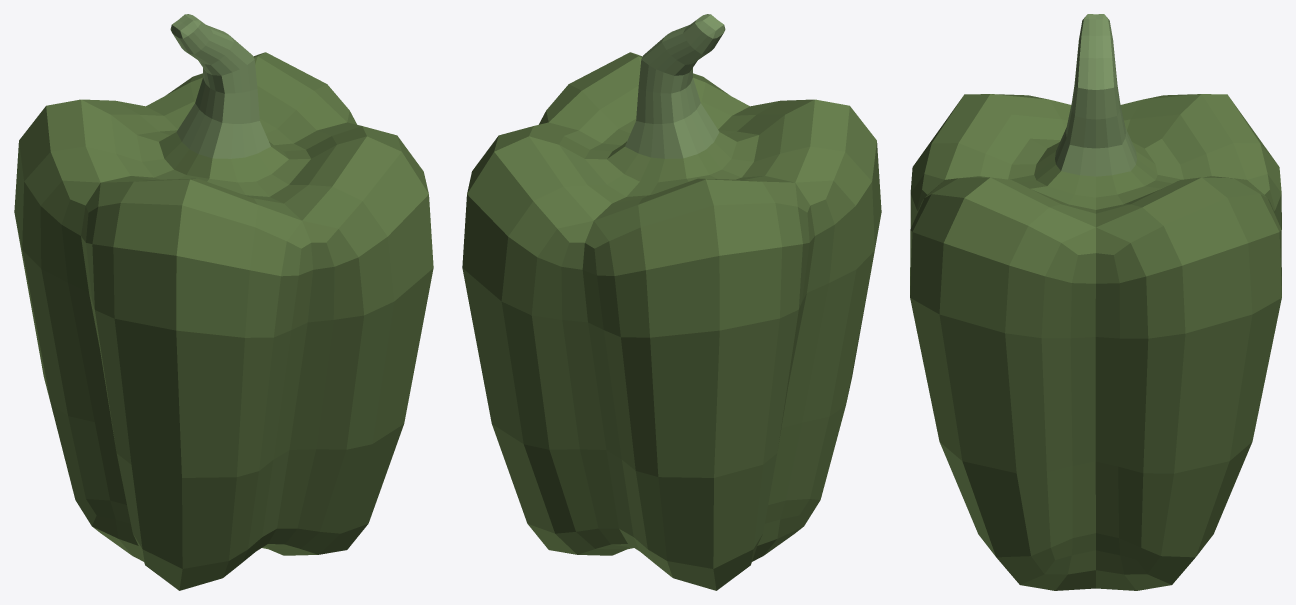
3 renders of one model, left to right at view 1: azimuth 30°, elevation 25°; view 2: azimuth 150°, elevation 25°; view 3: azimuth 270°, elevation 25°, orthographic. The views are drawn at different scales.
Parts seen in each view (by area): view 1: mesh_0, mesh_1; view 2: mesh_0, mesh_1; view 3: mesh_0, mesh_1.
Boxes of the visible parts, x1,y1,x2,y2 form: mesh_0: (14,52,433,590); mesh_1: (170,14,270,158); mesh_0: (462,52,881,590); mesh_1: (625,14,725,158); mesh_0: (910,94,1281,590); mesh_1: (1055,14,1136,176).
Size of the model in its own units: 0.674 by 1.12 by 0.7118.
